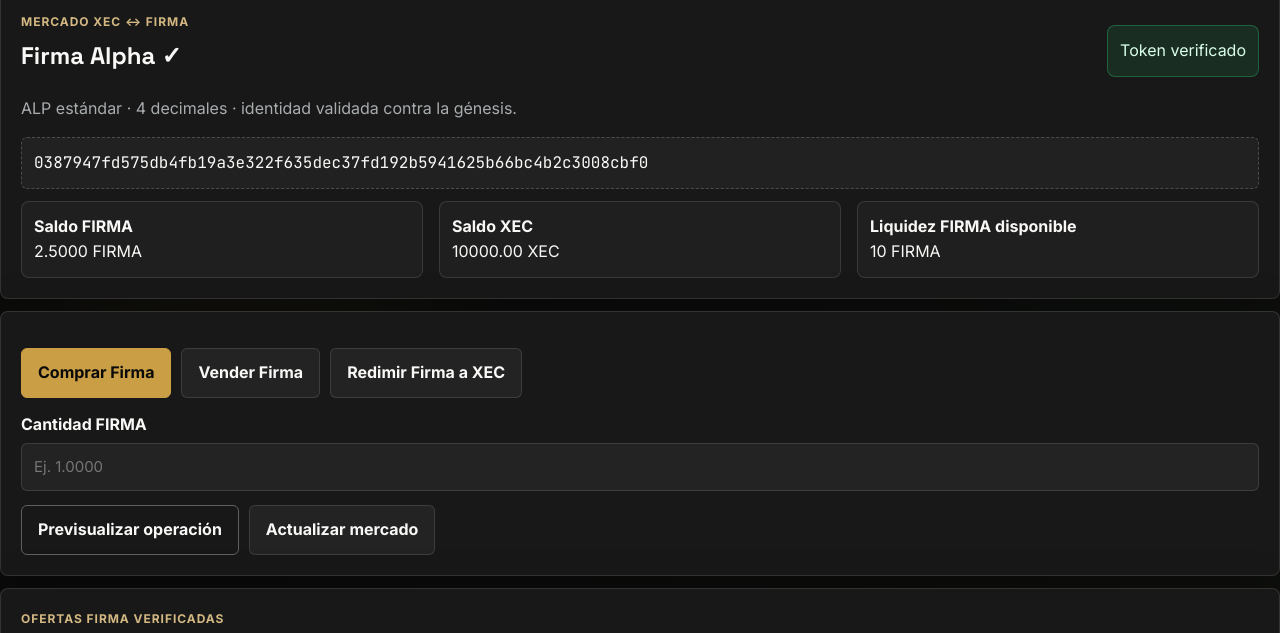
FirmaAlphaMarket preview boundary › does not sign or broadcast while preparing the mandatory preview
Expected: the button "Previsualizar operación" is enabled, [21,505,239,555]
Type "1" into the field labelled "Cantidad FIRMA" at point(640, 467), box [21,443,1259,491]
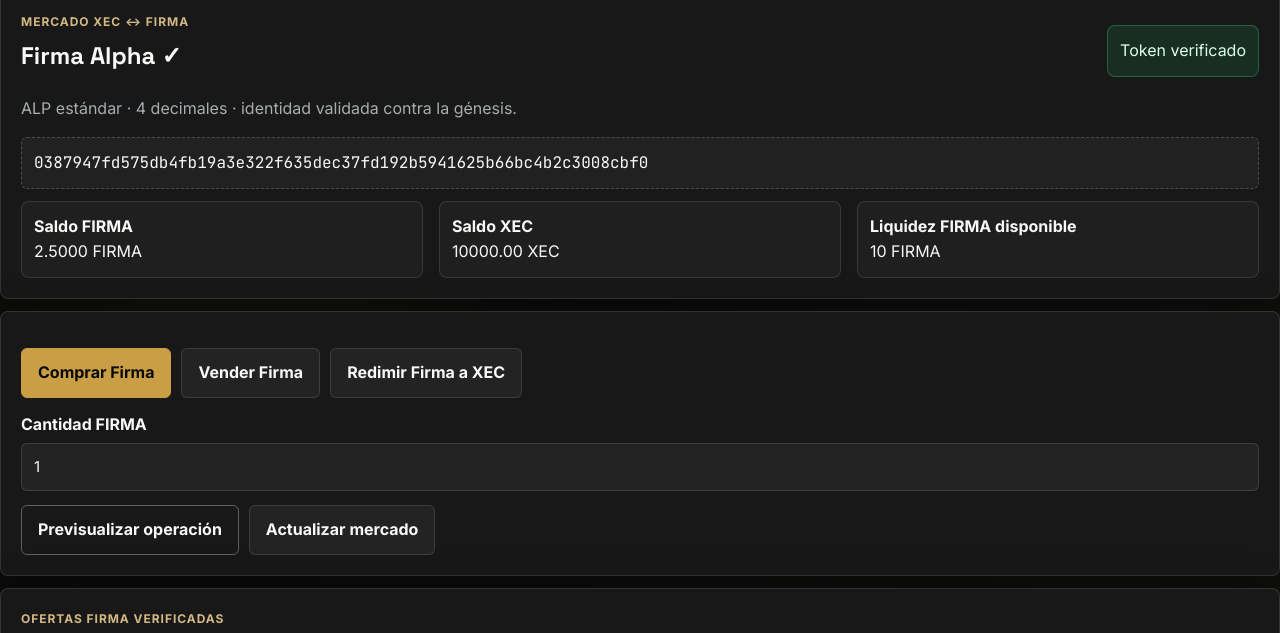
Click the button "Previsualizar operación" at point(130, 530), box [21,505,239,555]
(page scrolled)
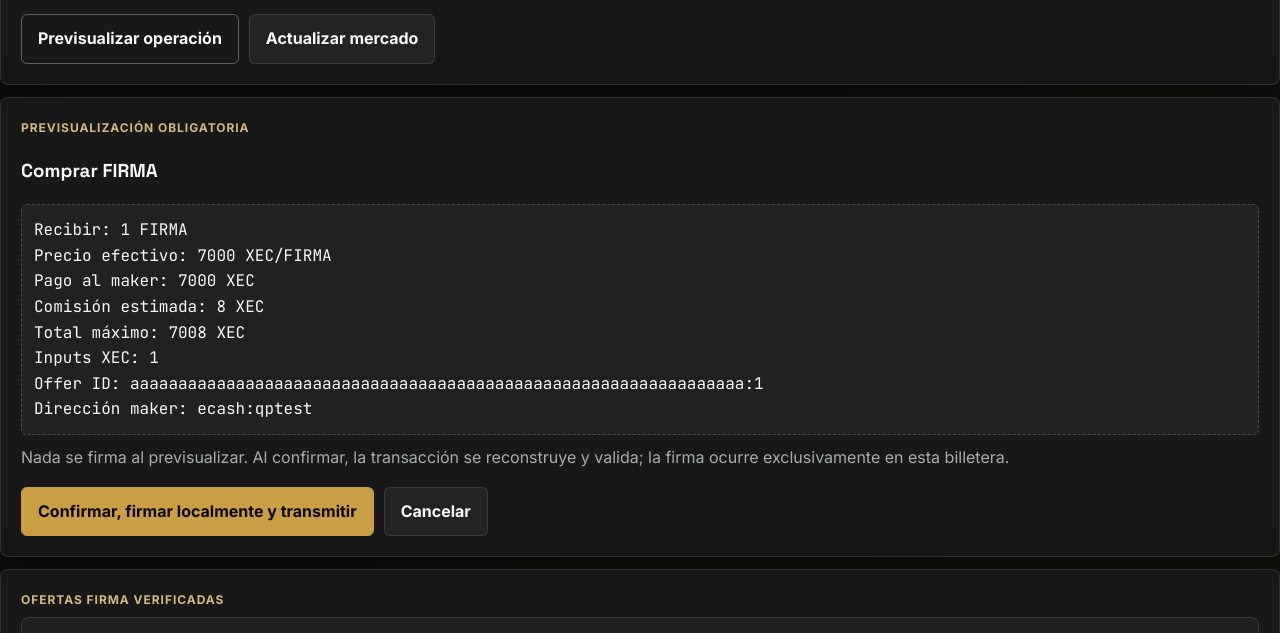
Expected: the element named "Previsualización obligatoria FIRMA" is shown
Expected: the text "Pago al maker: 7000 XEC" is shown, [34,219,764,420]
